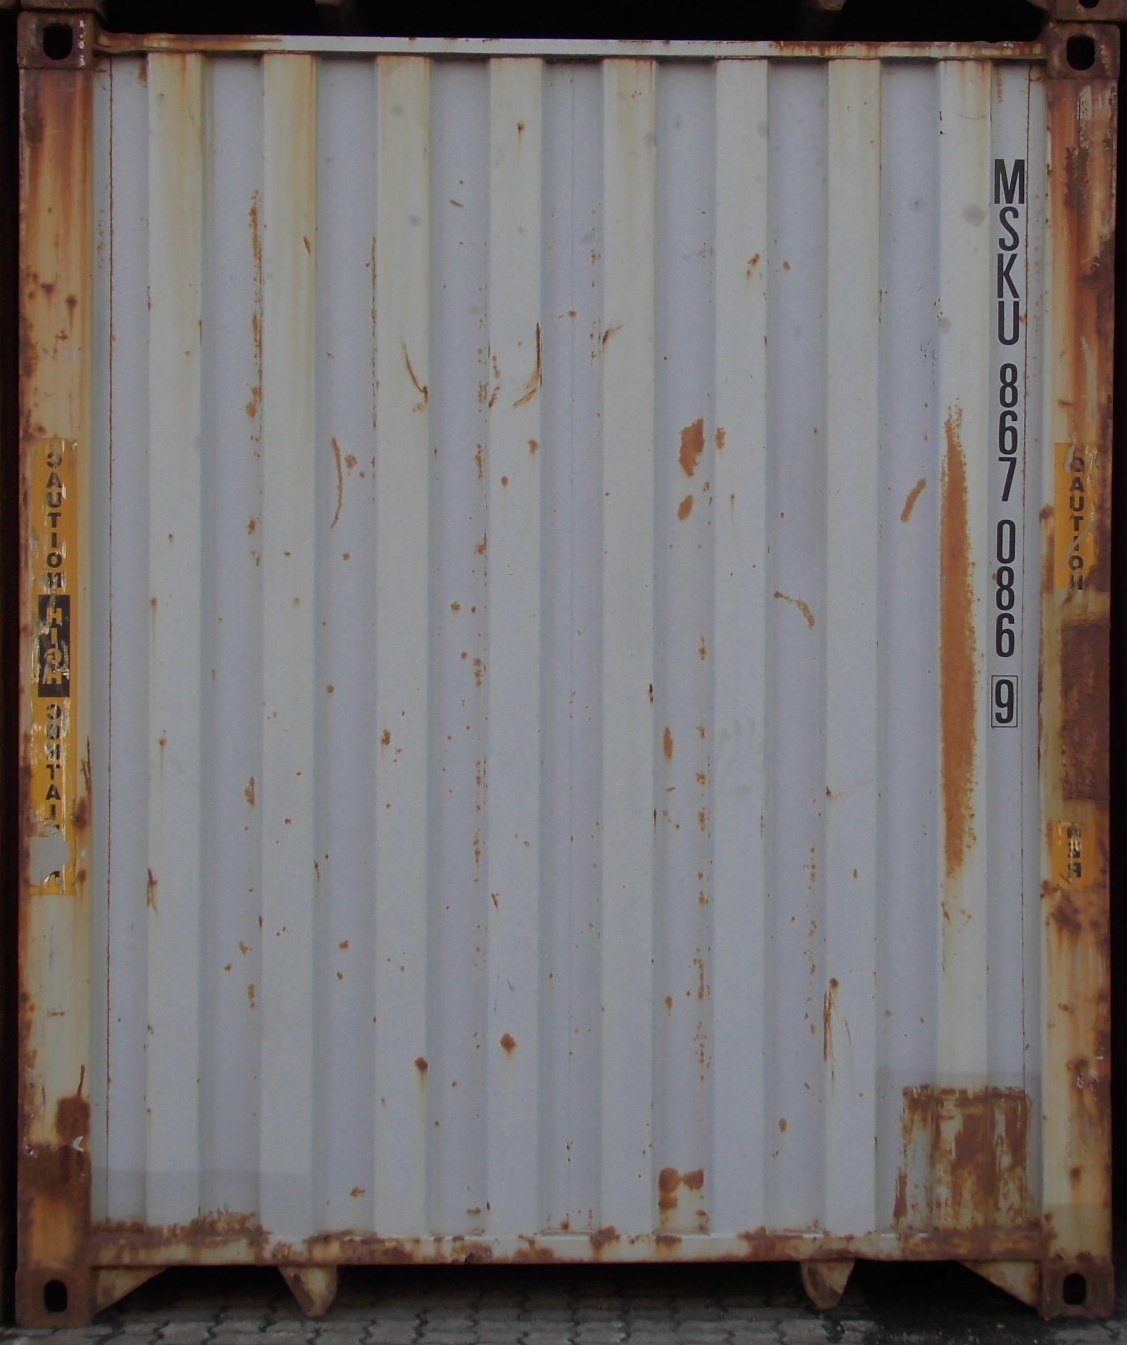container_no_door: (25, 37, 1116, 1323)
